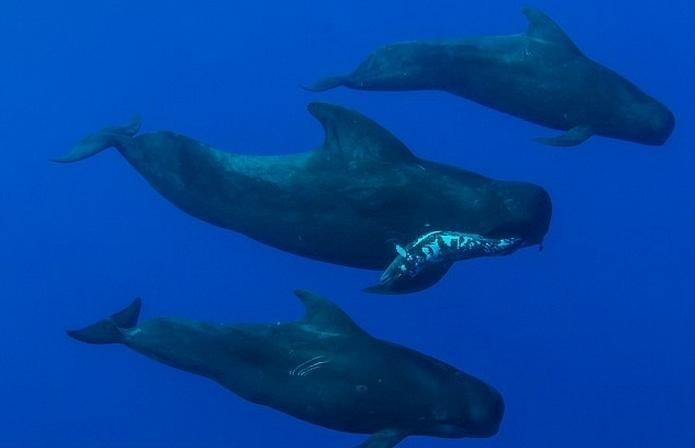fish: (50, 103, 556, 296), (68, 290, 501, 441), (297, 5, 677, 169)
